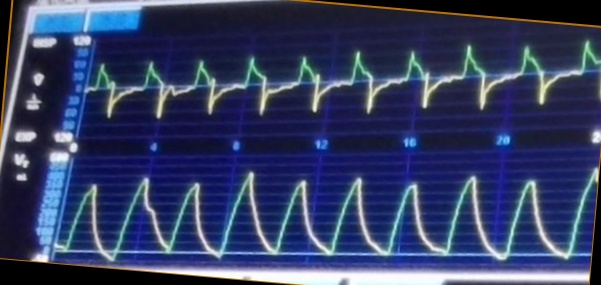Premature_cycling Flow: (93, 36, 599, 125)
Premature_cycling Volume: (72, 164, 589, 261)
